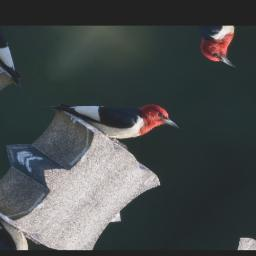Woodpecker: (41, 56, 189, 174)
